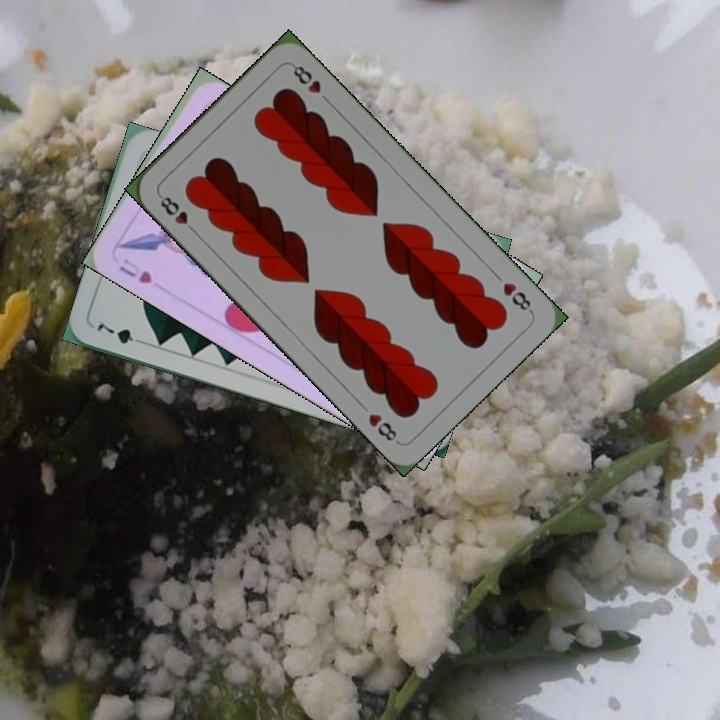G7: (93, 319, 149, 347)
H8: (154, 190, 200, 237), (499, 278, 536, 316)
HU: (115, 254, 155, 287)
